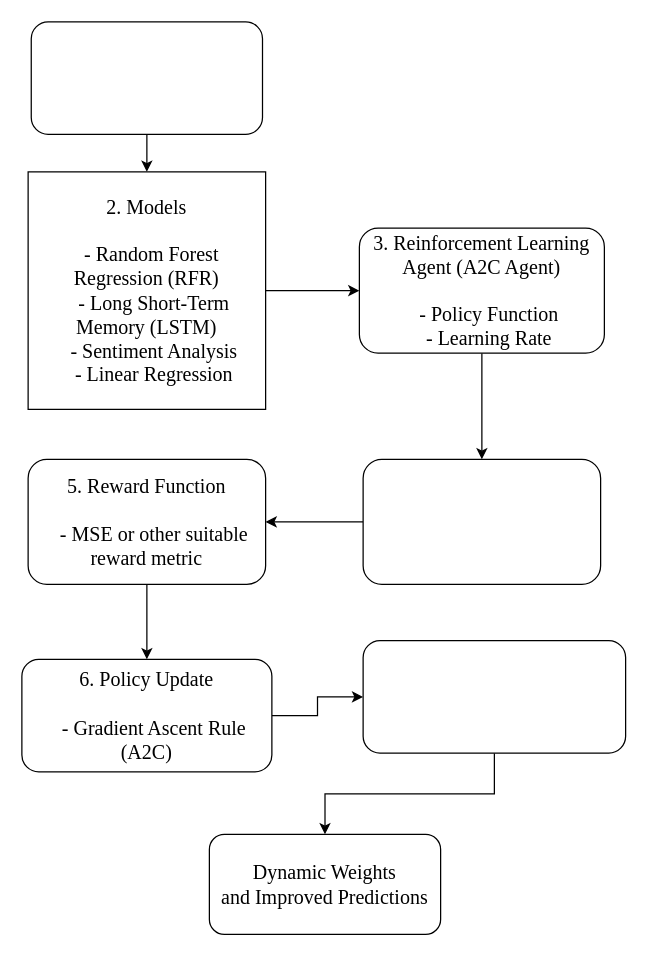
The diagram is 648 pixels wide and 956 high, and some of its shapes have lost their labels. Each missing label, with the centre of its shape:
1. Input Layer (State) -Historical Stock Data -Sentiment Analysis Results: pixel 146 77
4. Output Layer (Prediction) - Weighted Combination of Model Outputs: pixel 481 521
7. Training Loop - Number of Training Iterations or Episodes: pixel 494 696
